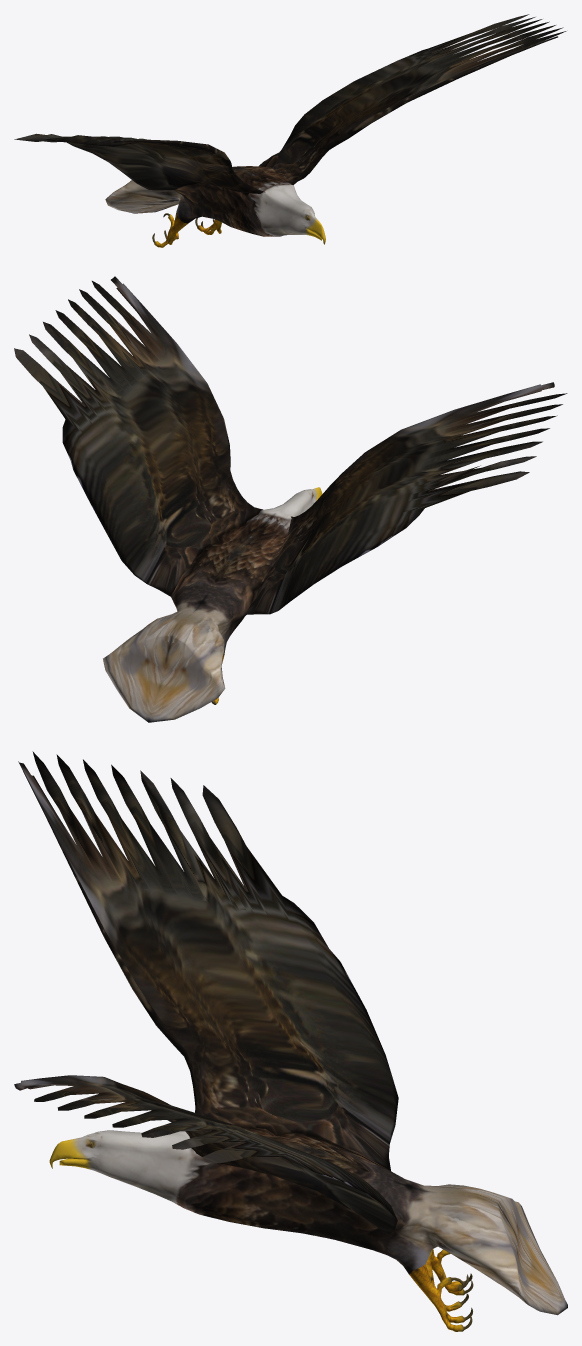
File: Eagle-original_000003.obj
3 renders of one model, top to bottom at view 1: azimuth 30°, elevation 25°; view 2: azimuth 150°, elevation 25°; view 3: azimuth 270°, elevation 25°, orthographic. The views are drawn at different scales.
Parts seen in each view (by area): view 1: Flugel_Plane.003; view 2: Flugel_Plane.003; view 3: Flugel_Plane.003.
Part boxes in pixels (x1,y1,x2,y2): Flugel_Plane.003: [14, 14, 566, 247]; Flugel_Plane.003: [14, 276, 567, 722]; Flugel_Plane.003: [14, 751, 567, 1331].
Size of the model in its own units: 9.91 by 4.79 by 6.19.
Materials: 1 (1 with a texture image).
